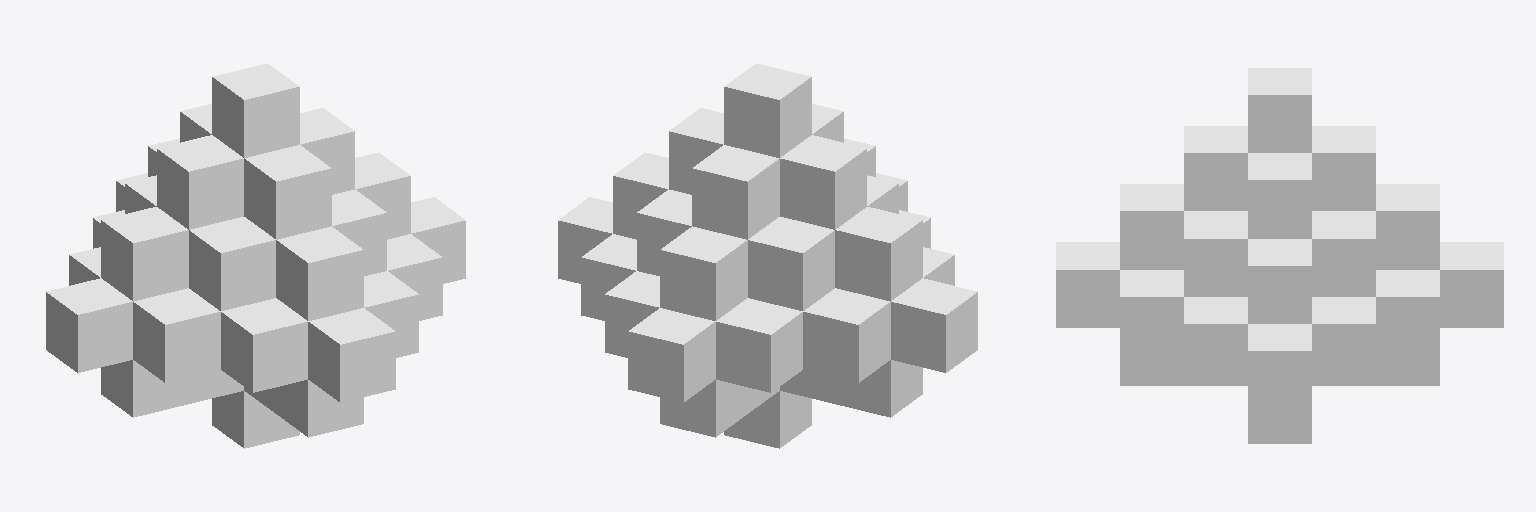
The model's file is bush03.obj.
3 renders of one model, left to right at view 1: azimuth 30°, elevation 25°; view 2: azimuth 150°, elevation 25°; view 3: azimuth 270°, elevation 25°, orthographic.
Visible parts, largest first — view 1: bush03; view 2: bush03; view 3: bush03.
Part boxes in pixels (x1,y1,x2,y2): bush03: (46,63,465,448); bush03: (558,63,977,448); bush03: (1056,68,1503,443).
Bounding box in the file's own units: 7 × 6 × 7.